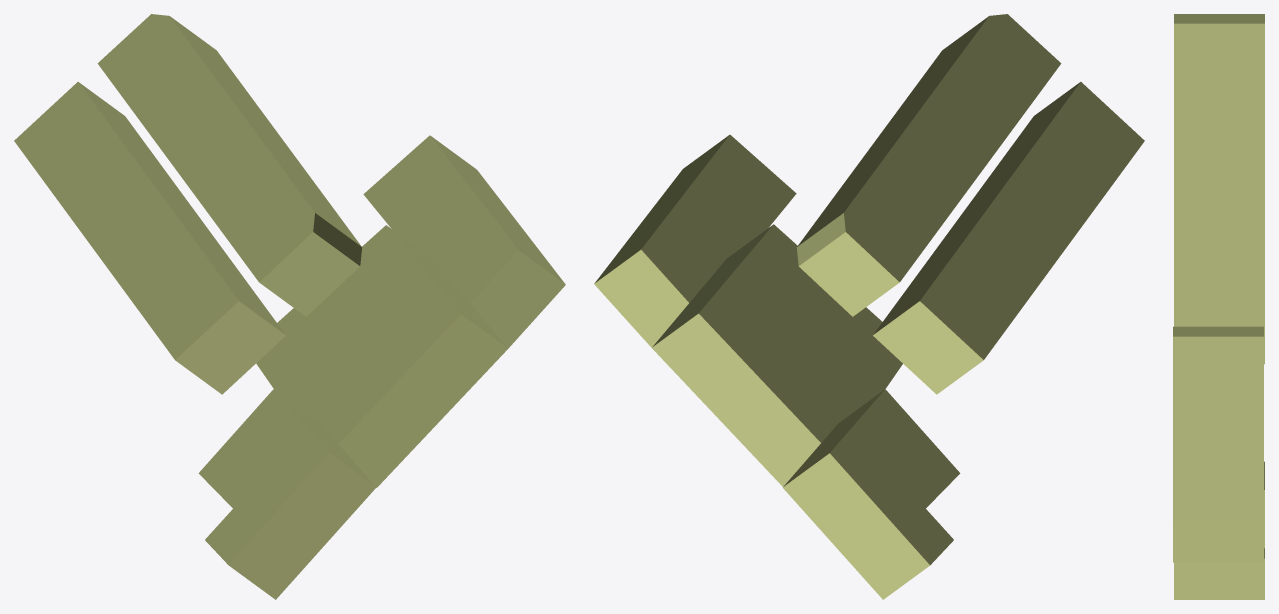
The picture shows the model from 3 angles, left to right: view 1: azimuth 30°, elevation 25°; view 2: azimuth 150°, elevation 25°; view 3: azimuth 270°, elevation 25°; orthographic projection. The views are drawn at different scales.
Parts seen in each view (by area): view 1: 0_1_0_0_3_0_3_3_1; view 2: 0_1_0_0_3_0_3_3_1; view 3: 0_1_0_0_3_0_3_3_1.
Part boxes in pixels (bbox=[...]): 0_1_0_0_3_0_3_3_1: bbox=[14, 14, 565, 599]; 0_1_0_0_3_0_3_3_1: bbox=[594, 14, 1144, 599]; 0_1_0_0_3_0_3_3_1: bbox=[1173, 14, 1264, 599].
Size of the model in its own units: 55.61 by 60.1 by 9.1.
